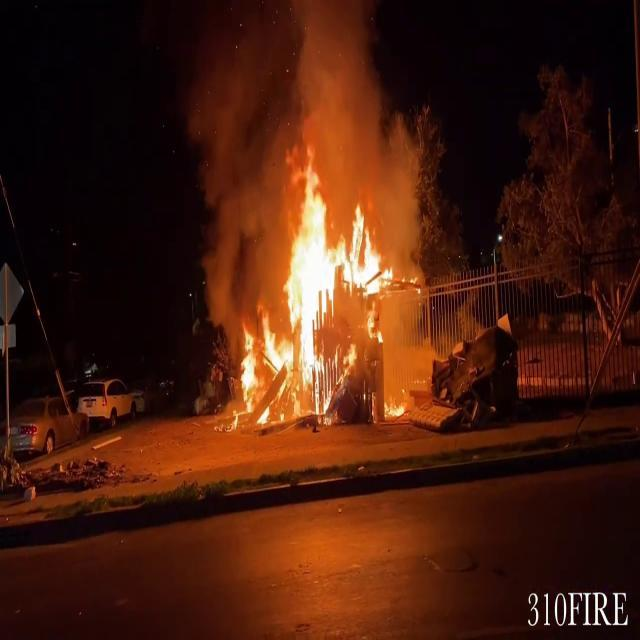Fire: (236, 148, 407, 424)
Smoke: (176, 0, 414, 236), (176, 2, 300, 298)
